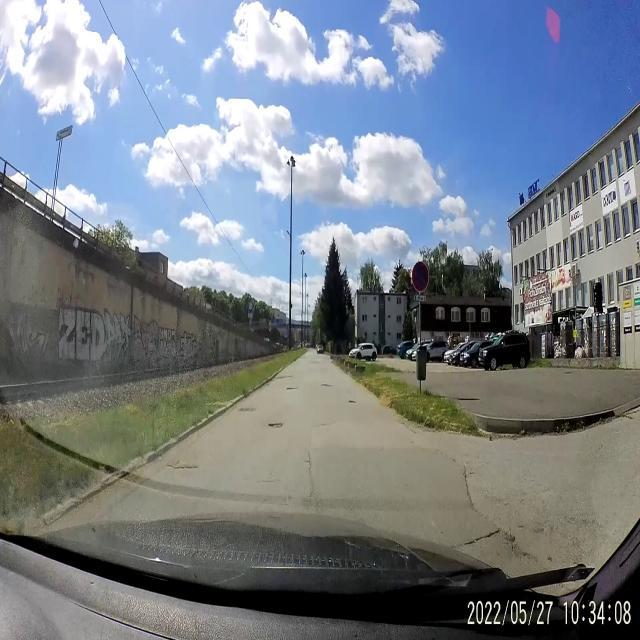Manhole: (237, 406, 254, 416)
Pothole: (462, 520, 508, 548), (164, 455, 198, 475), (265, 415, 284, 434), (286, 385, 300, 391), (320, 382, 332, 389), (348, 396, 356, 406)
